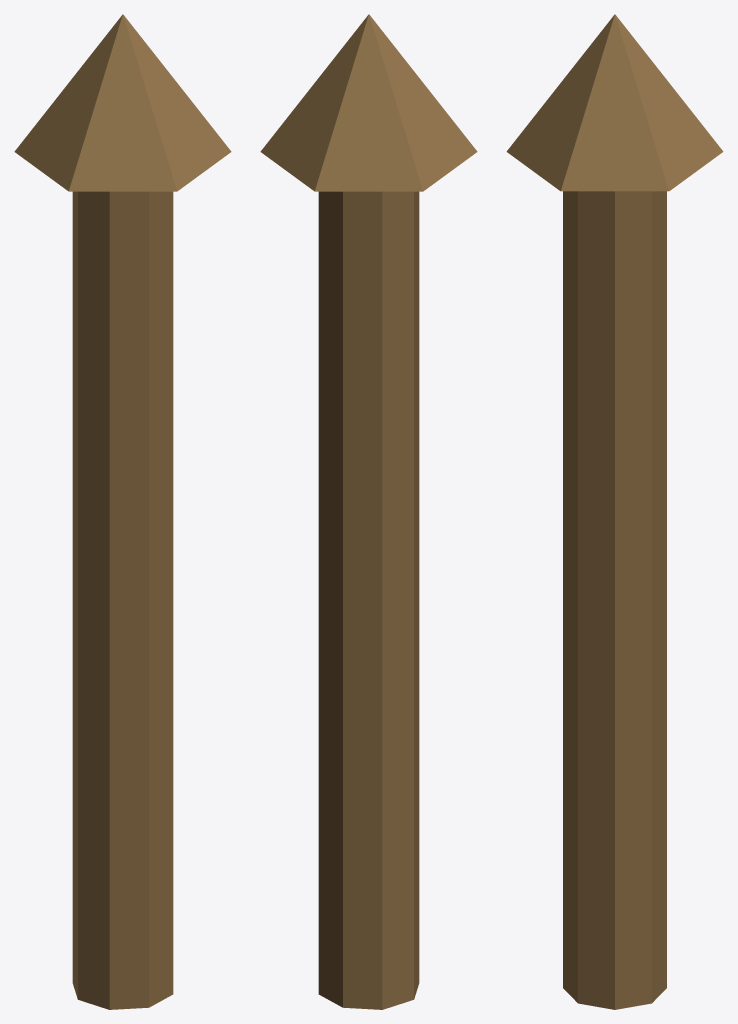
Rendered from SM_PathPost.fbx.
The picture shows the model from 3 angles, left to right: view 1: azimuth 30°, elevation 25°; view 2: azimuth 150°, elevation 25°; view 3: azimuth 270°, elevation 25°; orthographic projection.
Visible parts, largest first — view 1: SM_PathPost; view 2: SM_PathPost; view 3: SM_PathPost.
Boxes of the visible parts, x1,y1,x2,y2 form: SM_PathPost: (14,14,231,1009); SM_PathPost: (260,14,477,1009); SM_PathPost: (506,14,723,1009).
Size of the model in its own units: 0.433 by 2.47 by 0.5.
